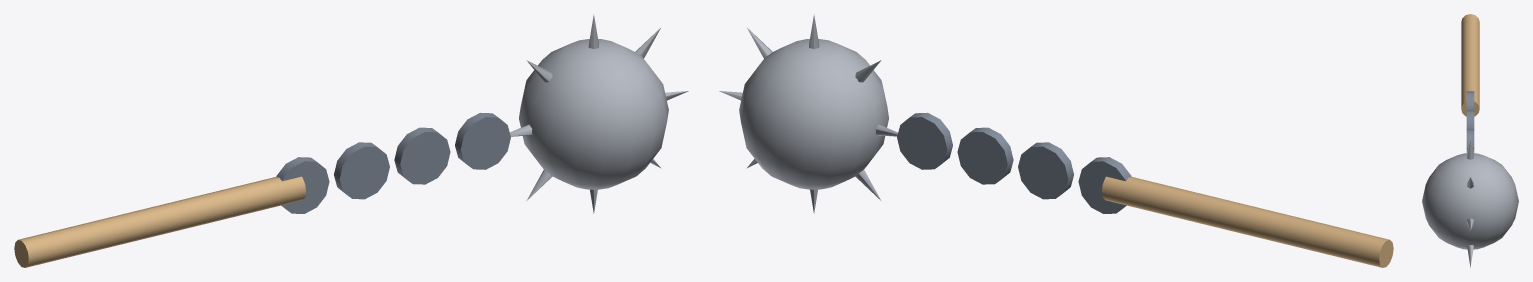
Rendered from weapon_mace.glb.
3 renders of one model, left to right at view 1: azimuth 30°, elevation 25°; view 2: azimuth 150°, elevation 25°; view 3: azimuth 270°, elevation 25°, orthographic. The views are drawn at different scales.
Parts seen in each view (by area): view 1: weapon_mace; view 2: weapon_mace; view 3: weapon_mace.
Boxes of the visible parts, box(x1,y1,x2,y2) form: weapon_mace: box(14, 14, 688, 267); weapon_mace: box(719, 14, 1393, 267); weapon_mace: box(1422, 14, 1518, 267).
Bounding box in the file's own units: 1.33 × 0.38 × 0.26.
